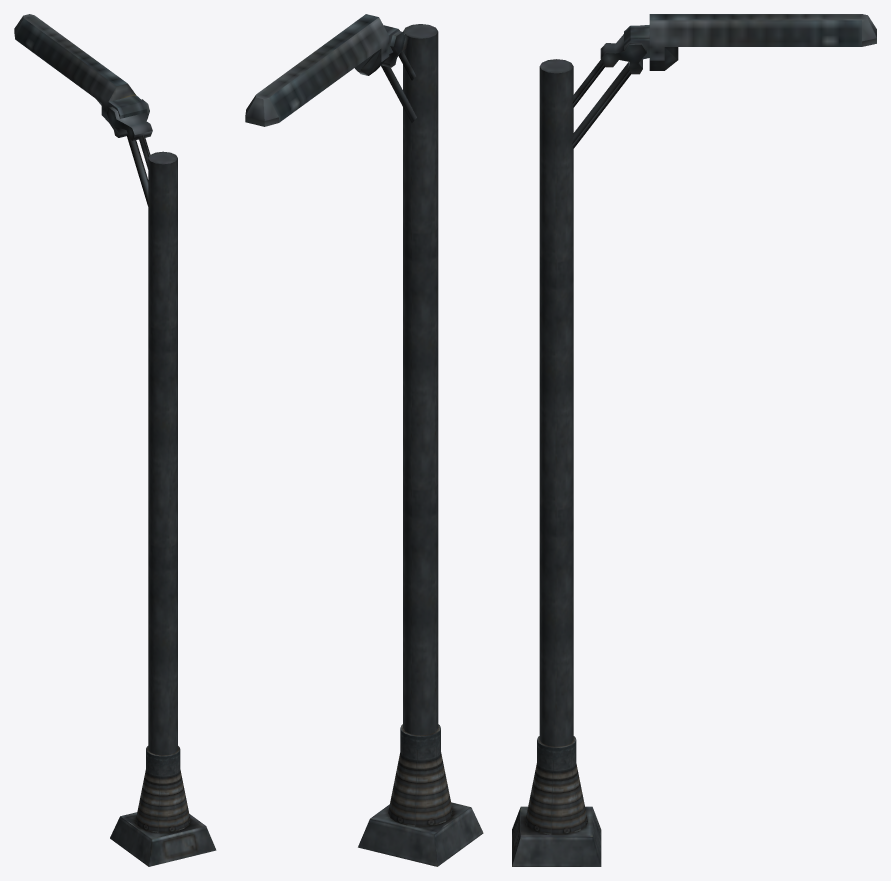
The model's file is Streetlamp.obj.
The picture shows the model from 3 angles, left to right: view 1: azimuth 30°, elevation 25°; view 2: azimuth 150°, elevation 25°; view 3: azimuth 270°, elevation 25°; orthographic projection. The views are drawn at different scales.
Visible parts, largest first — view 1: __PrenotatoPerDuplicare_0; view 2: __PrenotatoPerDuplicare_0; view 3: __PrenotatoPerDuplicare_0.
Part boxes in pixels (bbox=[...]): __PrenotatoPerDuplicare_0: bbox=[14, 14, 216, 866]; __PrenotatoPerDuplicare_0: bbox=[245, 14, 483, 866]; __PrenotatoPerDuplicare_0: bbox=[512, 14, 876, 866].
Bounding box in the file's own units: 53.37 × 549 × 219.
